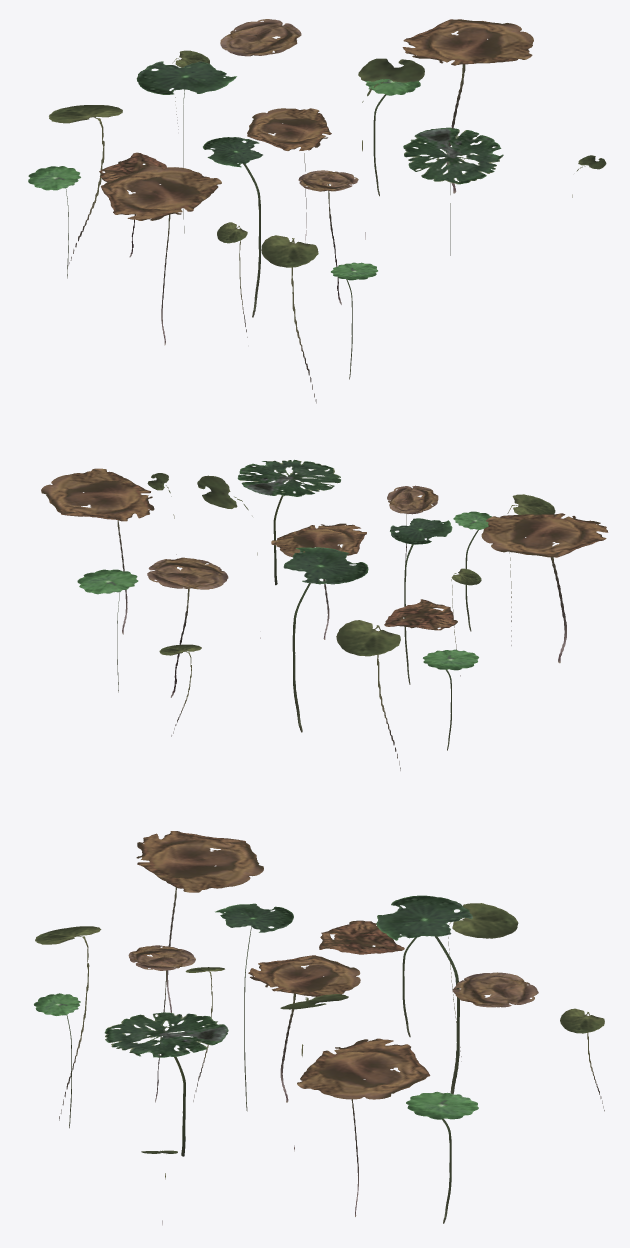
File: arden_forest_water_plants_03.fbx
The picture shows the model from 3 angles, top to bottom: view 1: azimuth 30°, elevation 25°; view 2: azimuth 150°, elevation 25°; view 3: azimuth 270°, elevation 25°; orthographic projection. The views are drawn at different scales.
Visible parts, largest first — view 1: arden_forest_water_plants_03; view 2: arden_forest_water_plants_03; view 3: arden_forest_water_plants_03.
Boxes of the visible parts, bbox=[...] form: arden_forest_water_plants_03: bbox=[28, 19, 606, 403]; arden_forest_water_plants_03: bbox=[41, 459, 608, 770]; arden_forest_water_plants_03: bbox=[34, 831, 604, 1225].
Size of the model in its own units: 131 by 51.69 by 113.
